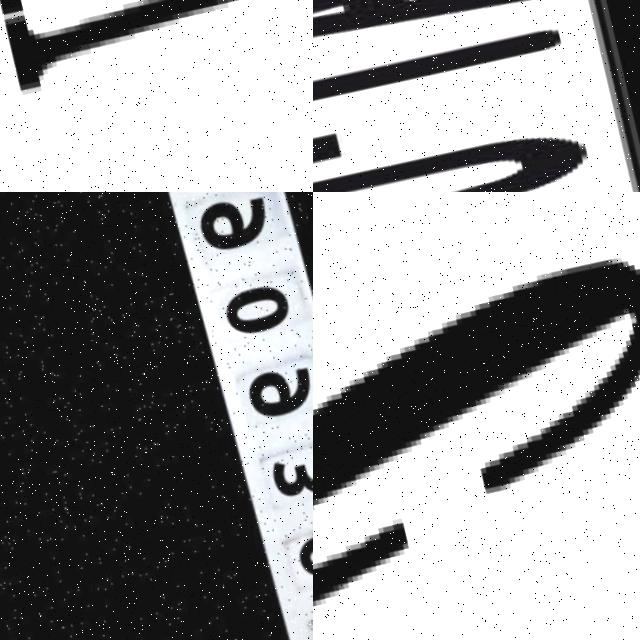0: (313, 80, 593, 192), (196, 248, 313, 353), (273, 492, 313, 596)
1: (313, 0, 544, 62)
3: (249, 418, 313, 513)
9: (167, 192, 296, 275), (219, 329, 313, 439)
A: (313, 0, 554, 139)
C: (313, 247, 640, 524)
T: (313, 0, 575, 192)
V: (0, 0, 313, 127)
